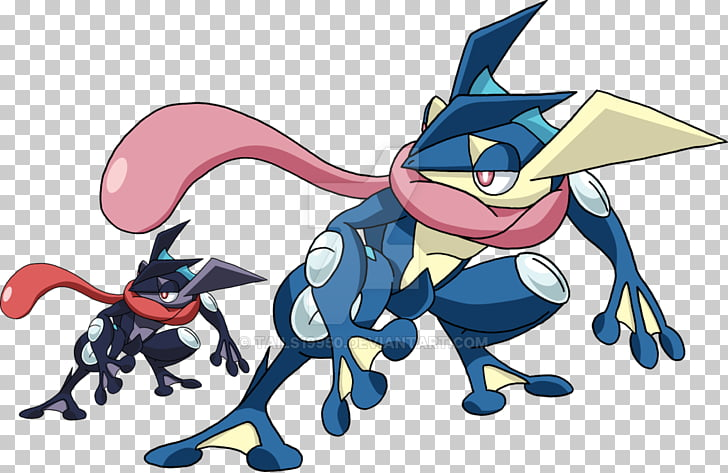greninja: (96, 1, 722, 473)
